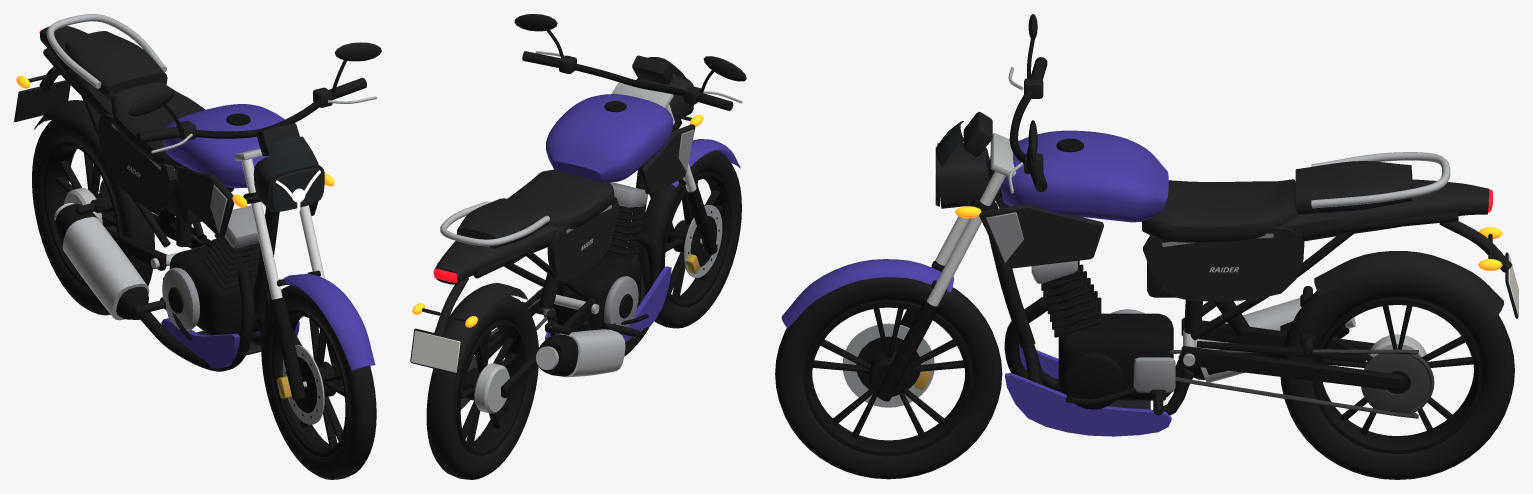
The model's file is tvs-raider-125.glb.
3 renders of one model, left to right at view 1: azimuth 30°, elevation 25°; view 2: azimuth 150°, elevation 25°; view 3: azimuth 270°, elevation 25°, orthographic. The views are drawn at different scales.
Parts seen in each view (by area): view 1: direccion, carroceria, rueda_delantera_malla, motor, rueda_trasera_malla, chasis, escape, asiento, faro_delantero; view 2: carroceria, rueda_trasera_malla, rueda_delantera_malla, chasis, direccion, motor, asiento, escape; view 3: carroceria, rueda_trasera_malla, rueda_delantera_malla, chasis, motor, direccion, asiento, escape.
Part boxes in pixels (x1,y1,x2,y2): direccion: [128, 42, 381, 399]; carroceria: [34, 26, 317, 238]; rueda_delantera_malla: [261, 285, 376, 479]; motor: [161, 170, 299, 368]; rueda_trasera_malla: [32, 114, 154, 315]; chasis: [14, 14, 279, 345]; escape: [54, 203, 254, 371]; asiento: [65, 31, 205, 166]; faro_delantero: [269, 168, 323, 211]; carroceria: [434, 94, 695, 362]; rueda_trasera_malla: [426, 295, 538, 479]; rueda_delantera_malla: [638, 150, 741, 328]; chasis: [410, 162, 648, 409]; direccion: [514, 14, 746, 273]; motor: [543, 183, 671, 342]; asiento: [457, 169, 614, 248]; escape: [536, 227, 661, 377]; carroceria: [979, 130, 1503, 317]; rueda_trasera_malla: [1280, 271, 1514, 479]; rueda_delantera_malla: [775, 277, 1002, 479]; chasis: [988, 152, 1518, 418]; motor: [1005, 260, 1175, 436]; direccion: [781, 14, 1047, 401]; asiento: [1142, 161, 1412, 242]; escape: [1004, 297, 1355, 382].
Size of the model in its own units: 0.8624 by 1.16 by 1.94.
